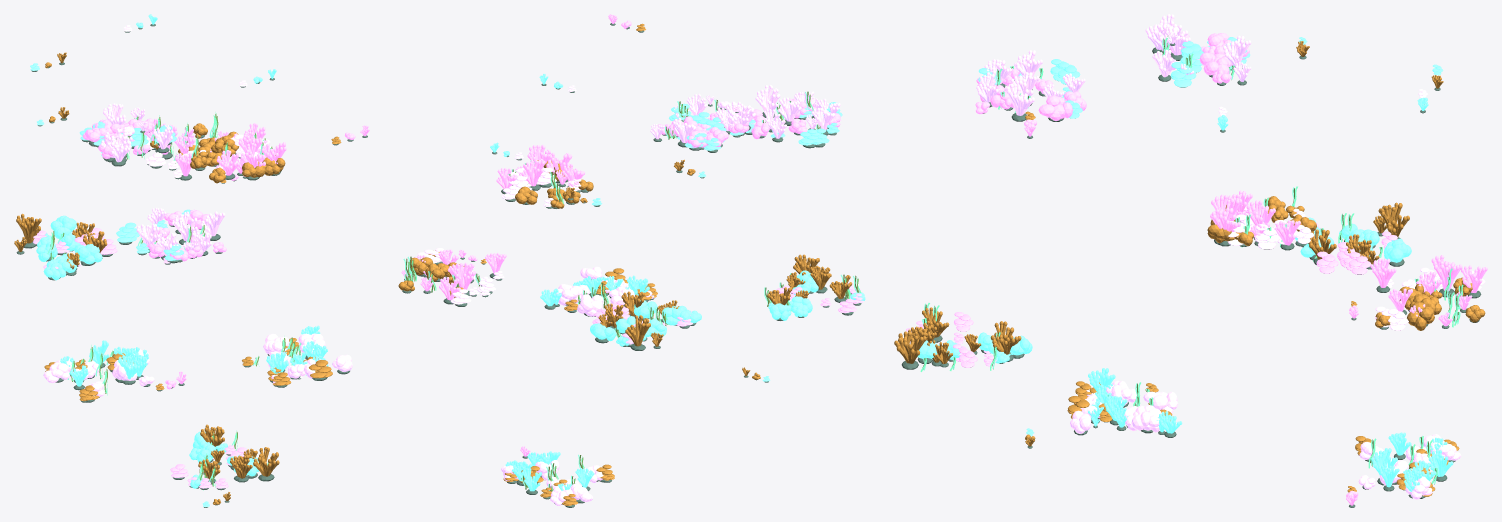
File: reef.glb
3 renders of one model, left to right at view 1: azimuth 30°, elevation 25°; view 2: azimuth 150°, elevation 25°; view 3: azimuth 270°, elevation 25°, orthographic. The views are drawn at different scales.
Visible parts, largest first — view 1: reef; view 2: reef; view 3: reef.
Part boxes in pixels (x1,y1,x2,y2): reef: (14,14,369,507); reef: (398,14,865,507); reef: (894,14,1487,507).
Size of the model in its own units: 52.73 by 62.09 by 81.56.
